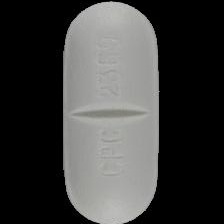0179-0154: (0, 0, 224, 224)
